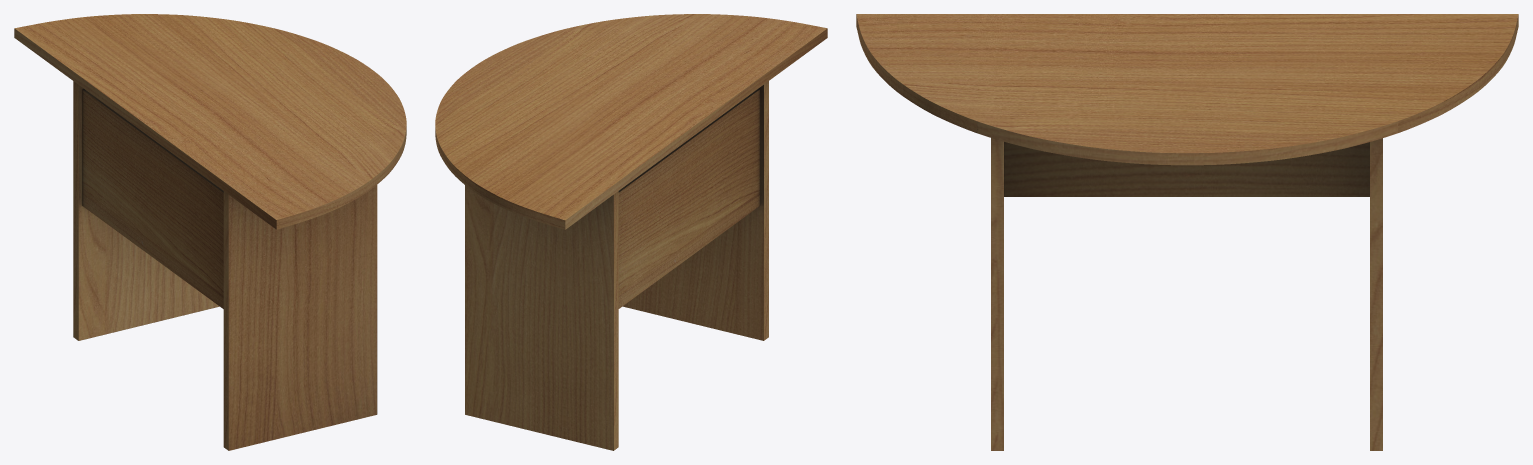
The model's file is sztulmisiczkowa.fbx.
3 views of the same model, side by side, from view 1: azimuth 30°, elevation 25°; view 2: azimuth 150°, elevation 25°; view 3: azimuth 270°, elevation 25° (orthographic). The views are drawn at different scales.
Parts seen in each view (by area): view 1: Okrąg; view 2: Okrąg; view 3: Okrąg.
Boxes of the visible parts, left/top/right/bottom form: Okrąg: left=14, top=14, right=406, bottom=450; Okrąg: left=435, top=14, right=827, bottom=450; Okrąg: left=856, top=14, right=1518, bottom=450.
Size of the model in its own units: 99.45 by 114 by 200.
